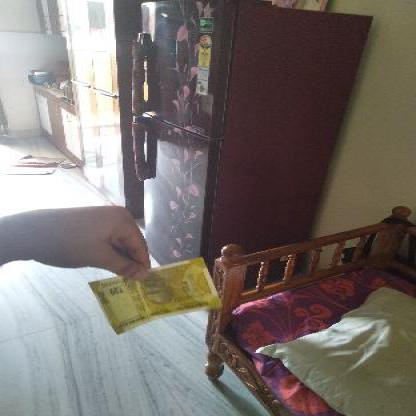New20Front: (90, 260, 216, 332)
